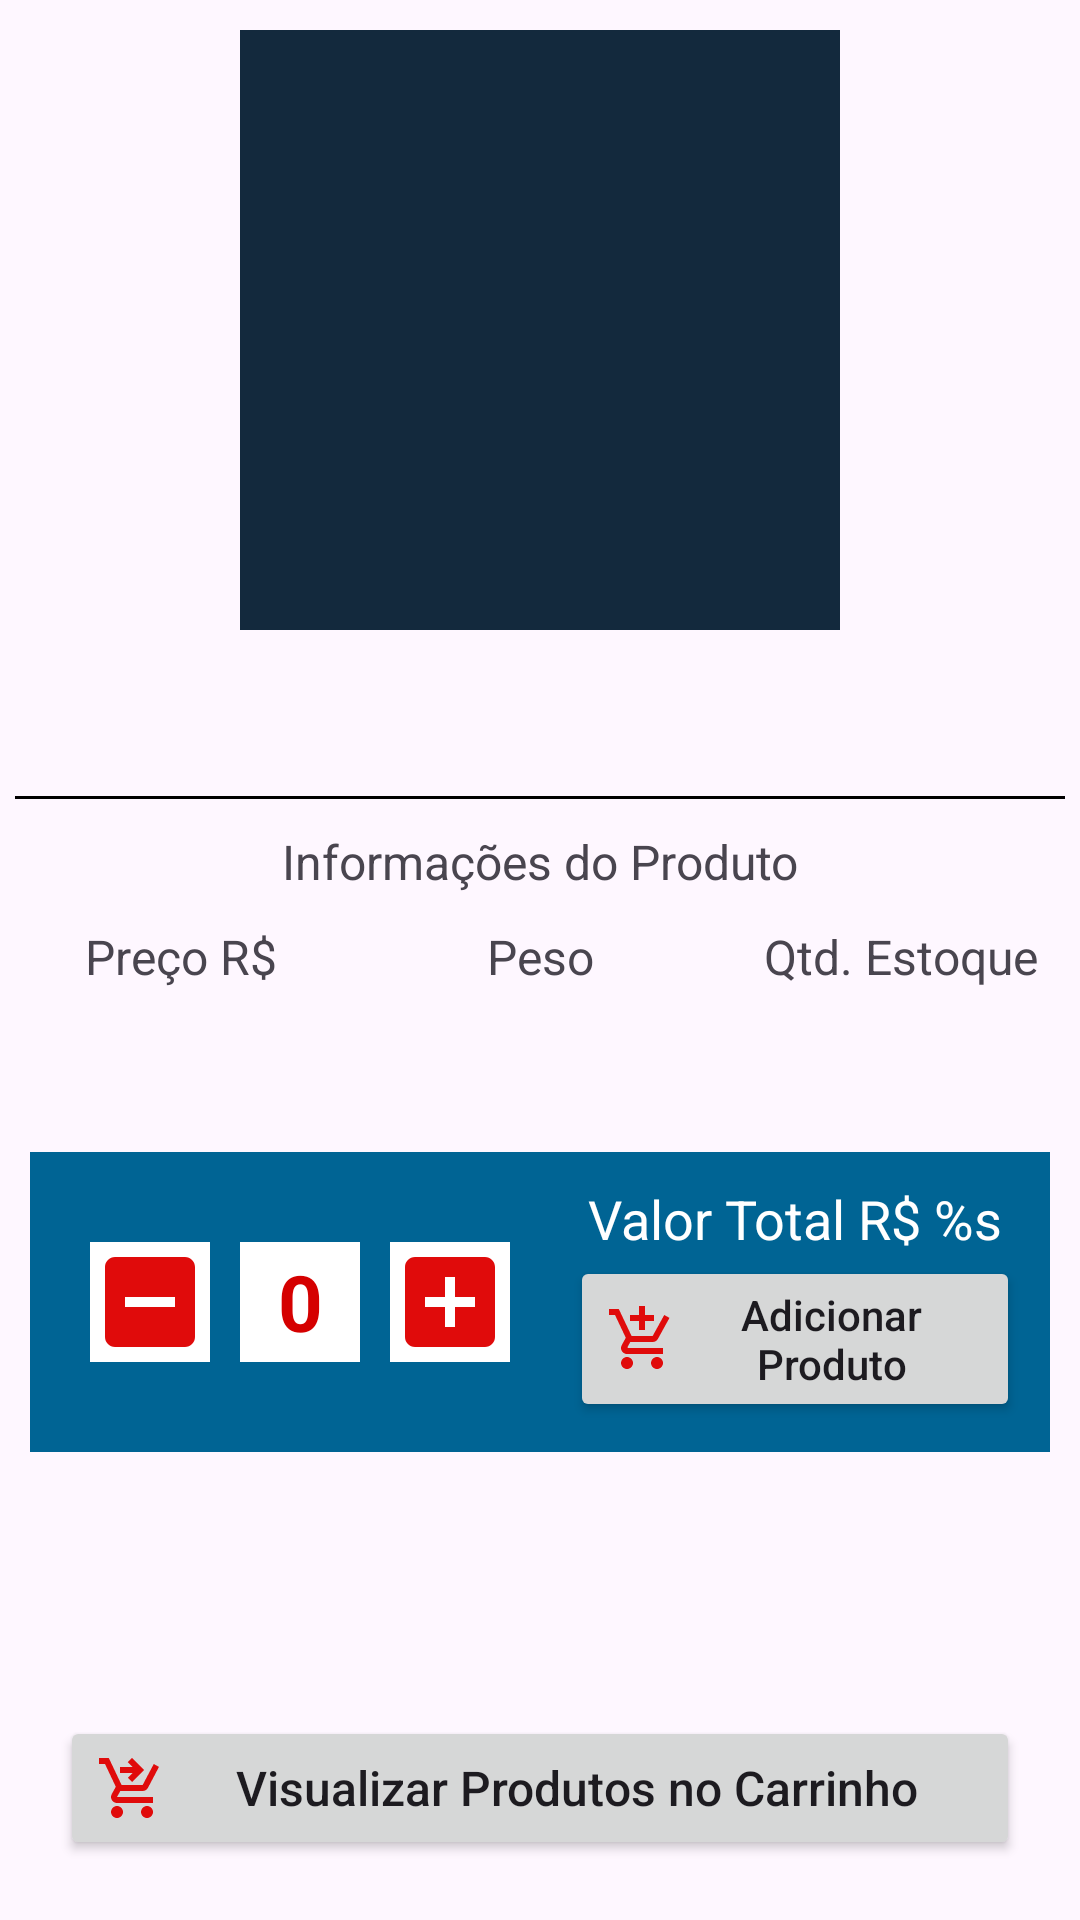

Locate icon controls on the screen. Image size 1080×1920, boxes as bbox=[x1, y1, x2, y2].
minus: bbox=[90, 1242, 210, 1362]
plus: bbox=[390, 1242, 510, 1362]
